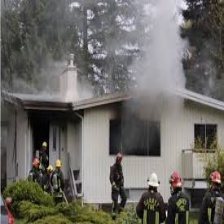smoke: (138, 1, 185, 116), (33, 70, 99, 104)
